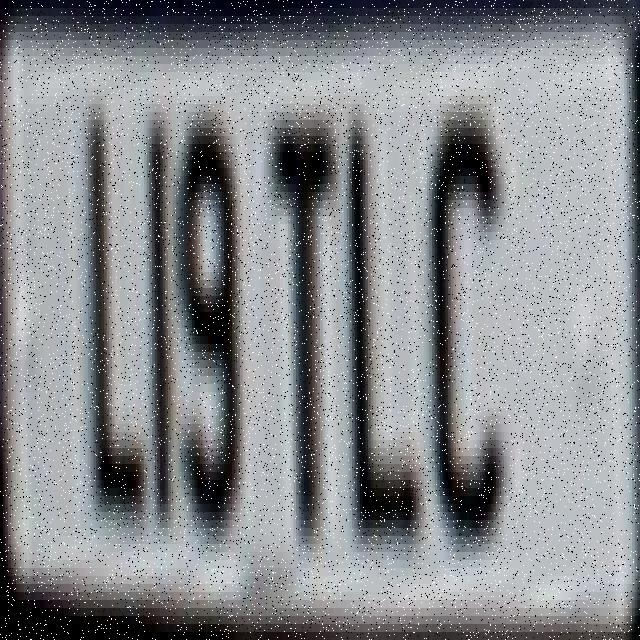licenseplate: (9, 20, 625, 605)
